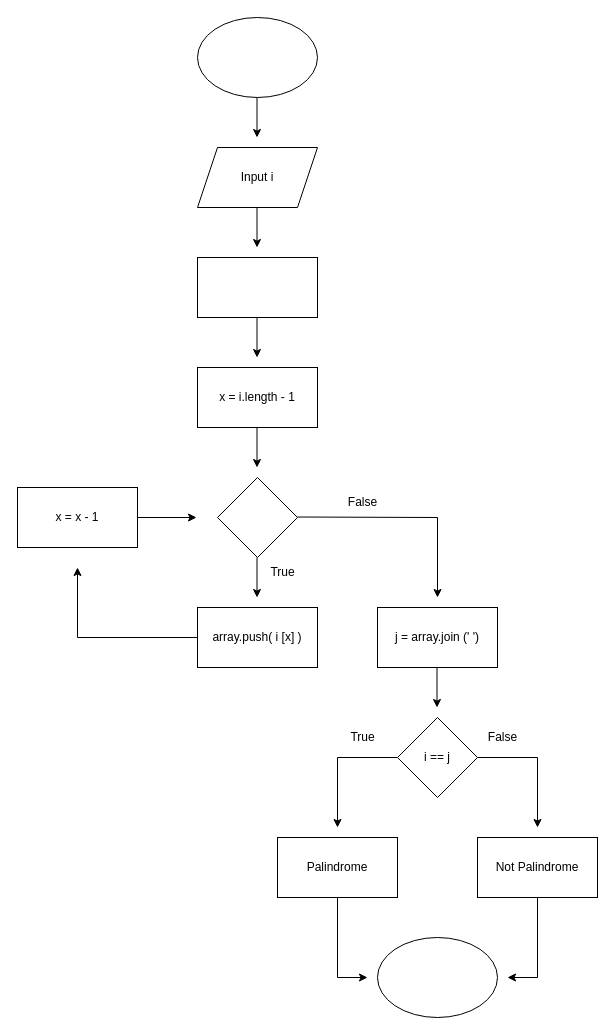
Image size: 615x1035. Some labels were removed from this diagram. Each missing label, with the centre of its shape:
Array = [ ]: (257,287)
Finish: (437,977)
Start: (257,57)
x >=0: (257,517)
